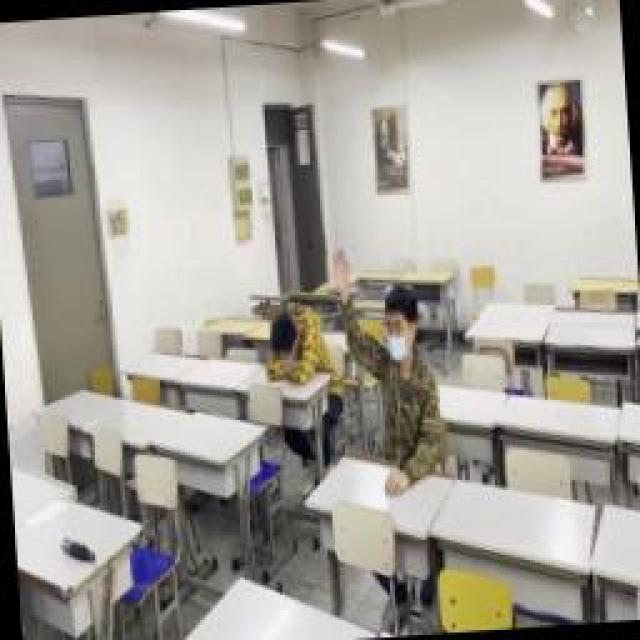sleep: (262, 313, 322, 385)
study: (330, 245, 448, 497)
